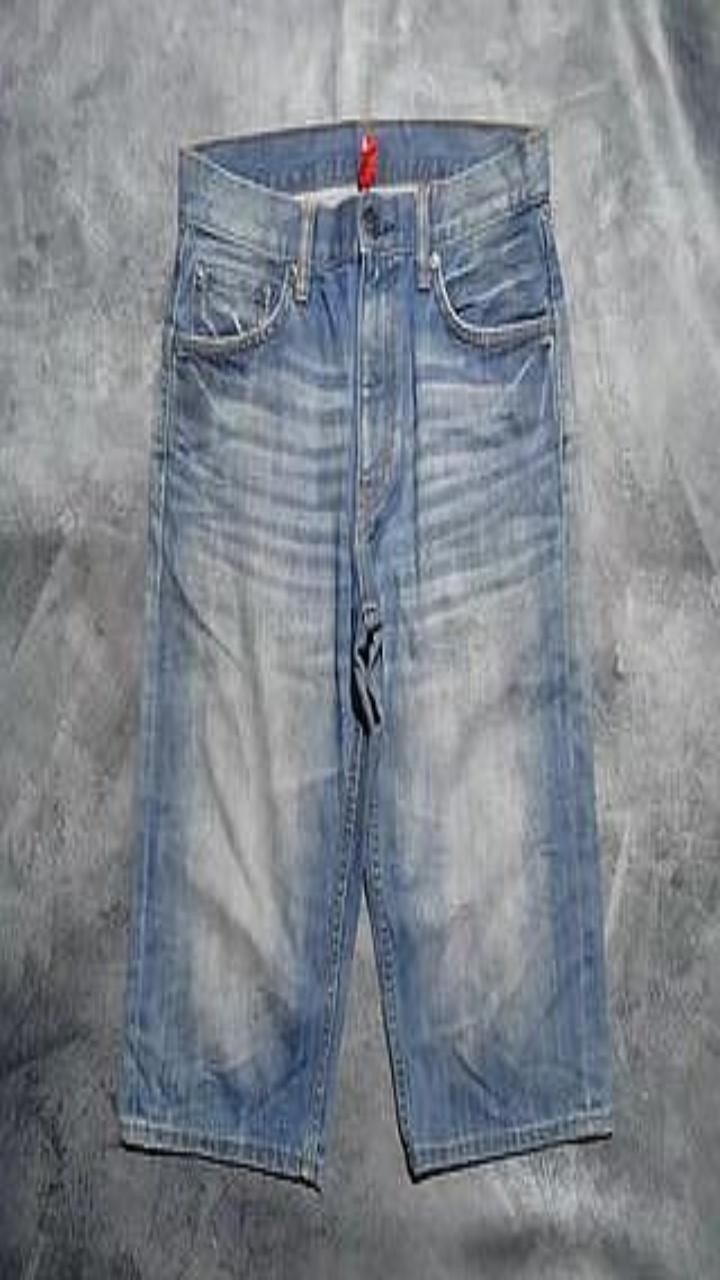Shorts: (117, 120, 611, 1188)
